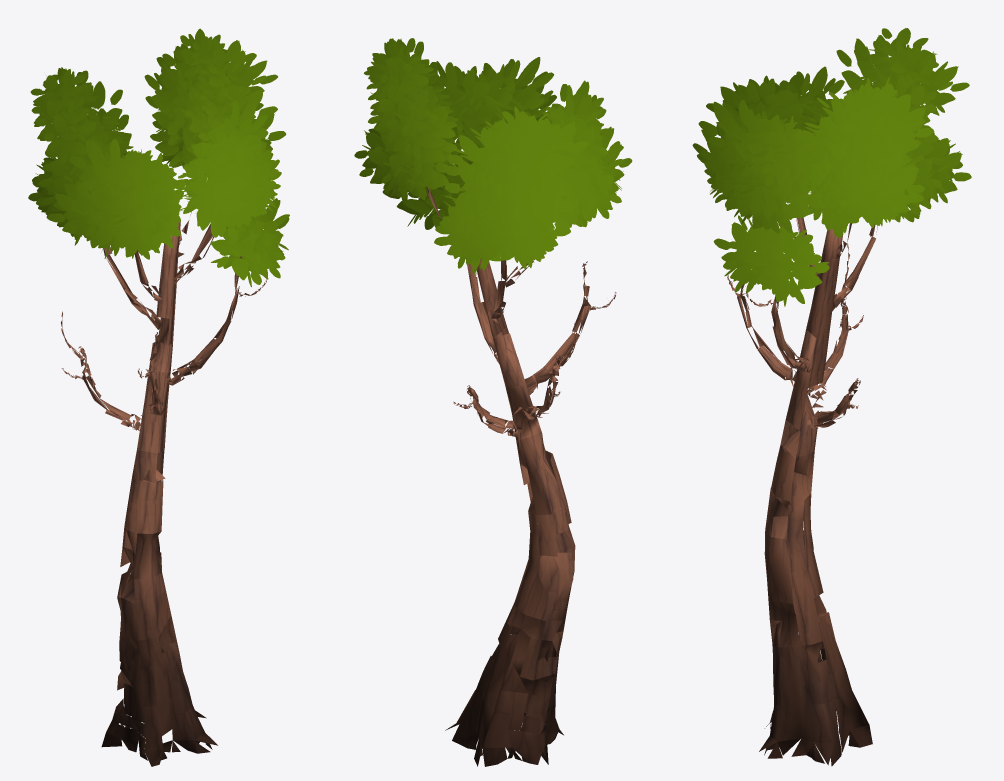
The model's file is tree_4.gltf.
3 views of the same model, side by side, from view 1: azimuth 30°, elevation 25°; view 2: azimuth 150°, elevation 25°; view 3: azimuth 270°, elevation 25° (orthographic). The views are drawn at different scales.
Visible parts, largest first — view 1: CommonTree_4; view 2: CommonTree_4; view 3: CommonTree_4.
Boxes of the visible parts, <box> form: CommonTree_4: <box>28,28,289,766</box>; CommonTree_4: <box>354,38,632,766</box>; CommonTree_4: <box>692,28,971,766</box>.
Size of the model in its own units: 3.83 by 9.47 by 3.76.
Materials: 2 (2 with a texture image).
